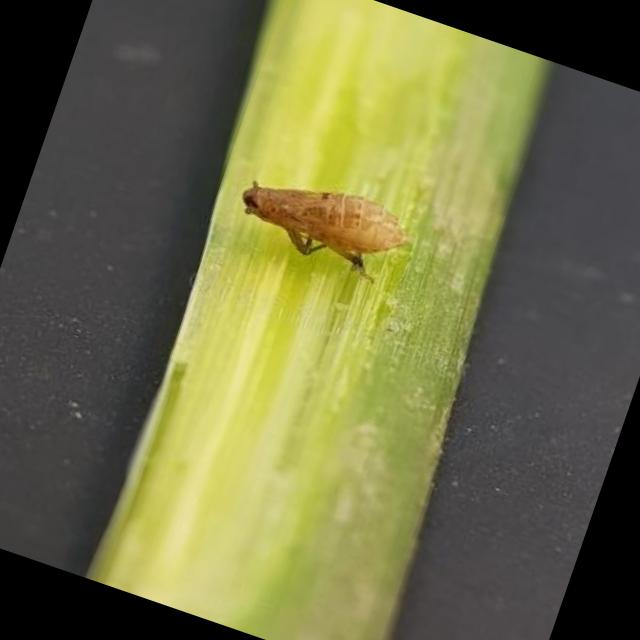brown-planthopper: (230, 156, 416, 277)
